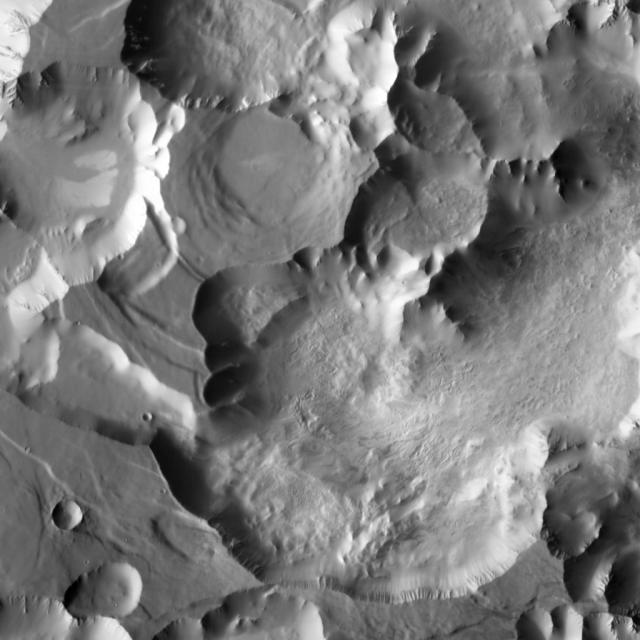crater: (210, 107, 329, 225), (58, 502, 89, 532), (175, 216, 192, 233), (150, 413, 159, 422)
